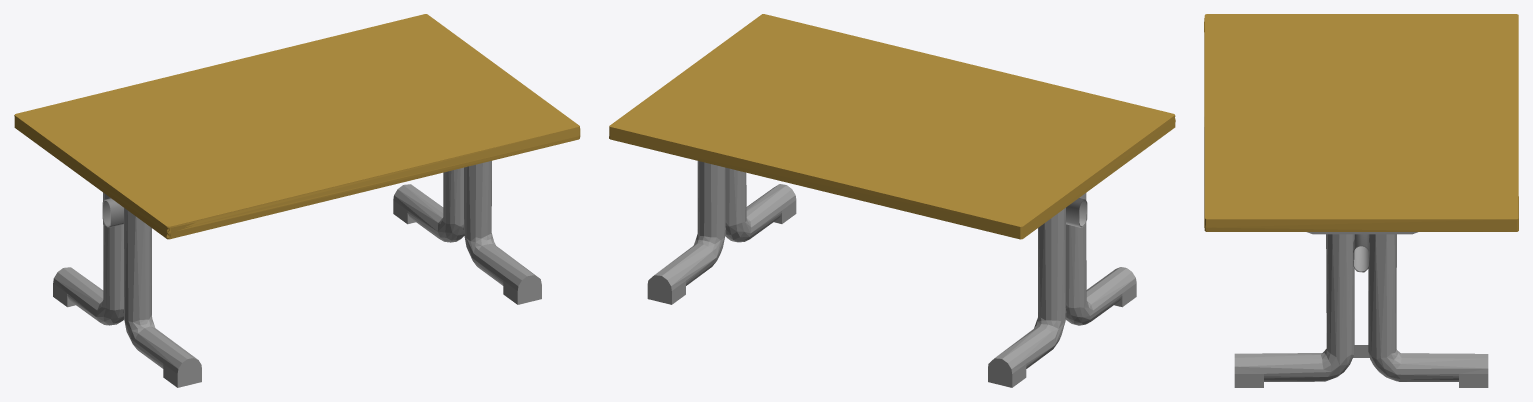
The model's file is Doppeltisch.fbx.
3 renders of one model, left to right at view 1: azimuth 30°, elevation 25°; view 2: azimuth 150°, elevation 25°; view 3: azimuth 270°, elevation 25°, orthographic.
Visible parts, largest first — view 1: Tisch_LOD0; view 2: Tisch_LOD0; view 3: Tisch_LOD0.
Part boxes in pixels (left/top/right/bottom): Tisch_LOD0: left=14, top=14, right=580, bottom=387; Tisch_LOD0: left=609, top=14, right=1175, bottom=387; Tisch_LOD0: left=1204, top=14, right=1518, bottom=387.
Size of what is drawn, in the model's own units: 1.7 by 0.6983 by 1.1.
